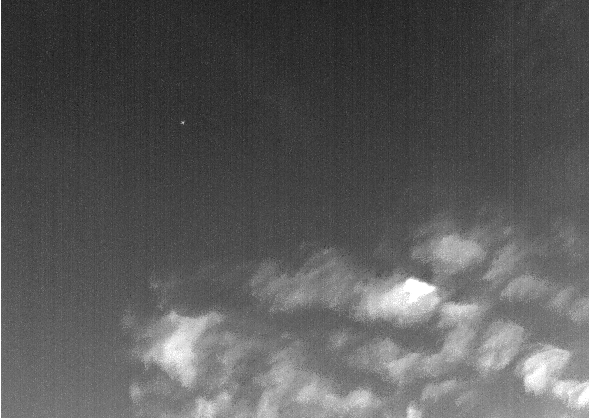dim target: (179, 120, 186, 125)
